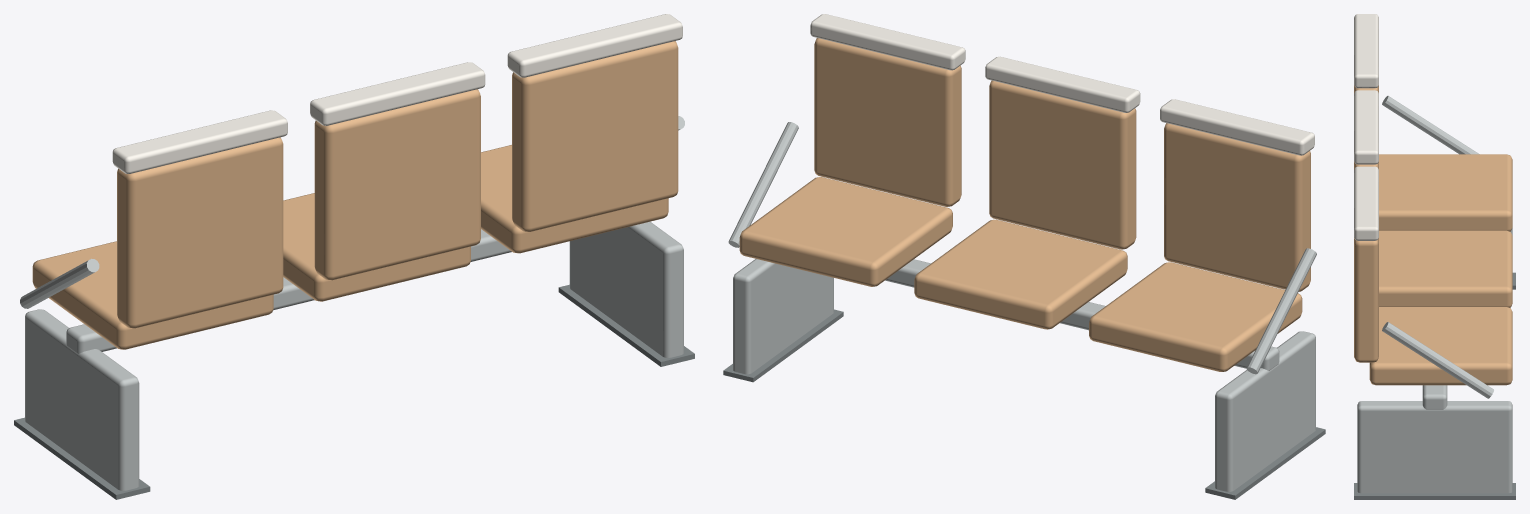
File: waiting-chairs-run-coral.glb
3 renders of one model, left to right at view 1: azimuth 30°, elevation 25°; view 2: azimuth 150°, elevation 25°; view 3: azimuth 270°, elevation 25°, orthographic. The views are drawn at different scales.
Visible parts, largest first — view 1: 153-waiting-chairs-run-coral/2, 153-waiting-chairs-run-coral/0, 153-waiting-chairs-run-coral/3, 153-waiting-chairs-run-coral/1; view 2: 153-waiting-chairs-run-coral/2, 153-waiting-chairs-run-coral/0, 153-waiting-chairs-run-coral/3, 153-waiting-chairs-run-coral/1; view 3: 153-waiting-chairs-run-coral/2, 153-waiting-chairs-run-coral/0, 153-waiting-chairs-run-coral/3, 153-waiting-chairs-run-coral/1.
Part boxes in pixels (<box>): 153-waiting-chairs-run-coral/2: <box>32,41,678,349</box>; 153-waiting-chairs-run-coral/0: <box>20,116,684,490</box>; 153-waiting-chairs-run-coral/3: <box>112,14,682,173</box>; 153-waiting-chairs-run-coral/1: <box>14,284,694,499</box>; 153-waiting-chairs-run-coral/2: <box>739,38,1310,371</box>; 153-waiting-chairs-run-coral/0: <box>728,122,1316,491</box>; 153-waiting-chairs-run-coral/3: <box>810,14,1314,155</box>; 153-waiting-chairs-run-coral/1: <box>723,309,1325,499</box>; 153-waiting-chairs-run-coral/2: <box>1354,85,1512,385</box>; 153-waiting-chairs-run-coral/0: <box>1357,96,1512,493</box>; 153-waiting-chairs-run-coral/3: <box>1354,14,1378,240</box>; 153-waiting-chairs-run-coral/1: <box>1354,272,1515,499</box>.
Bounding box in the file's own units: 1.76 × 0.9501 × 0.52.
